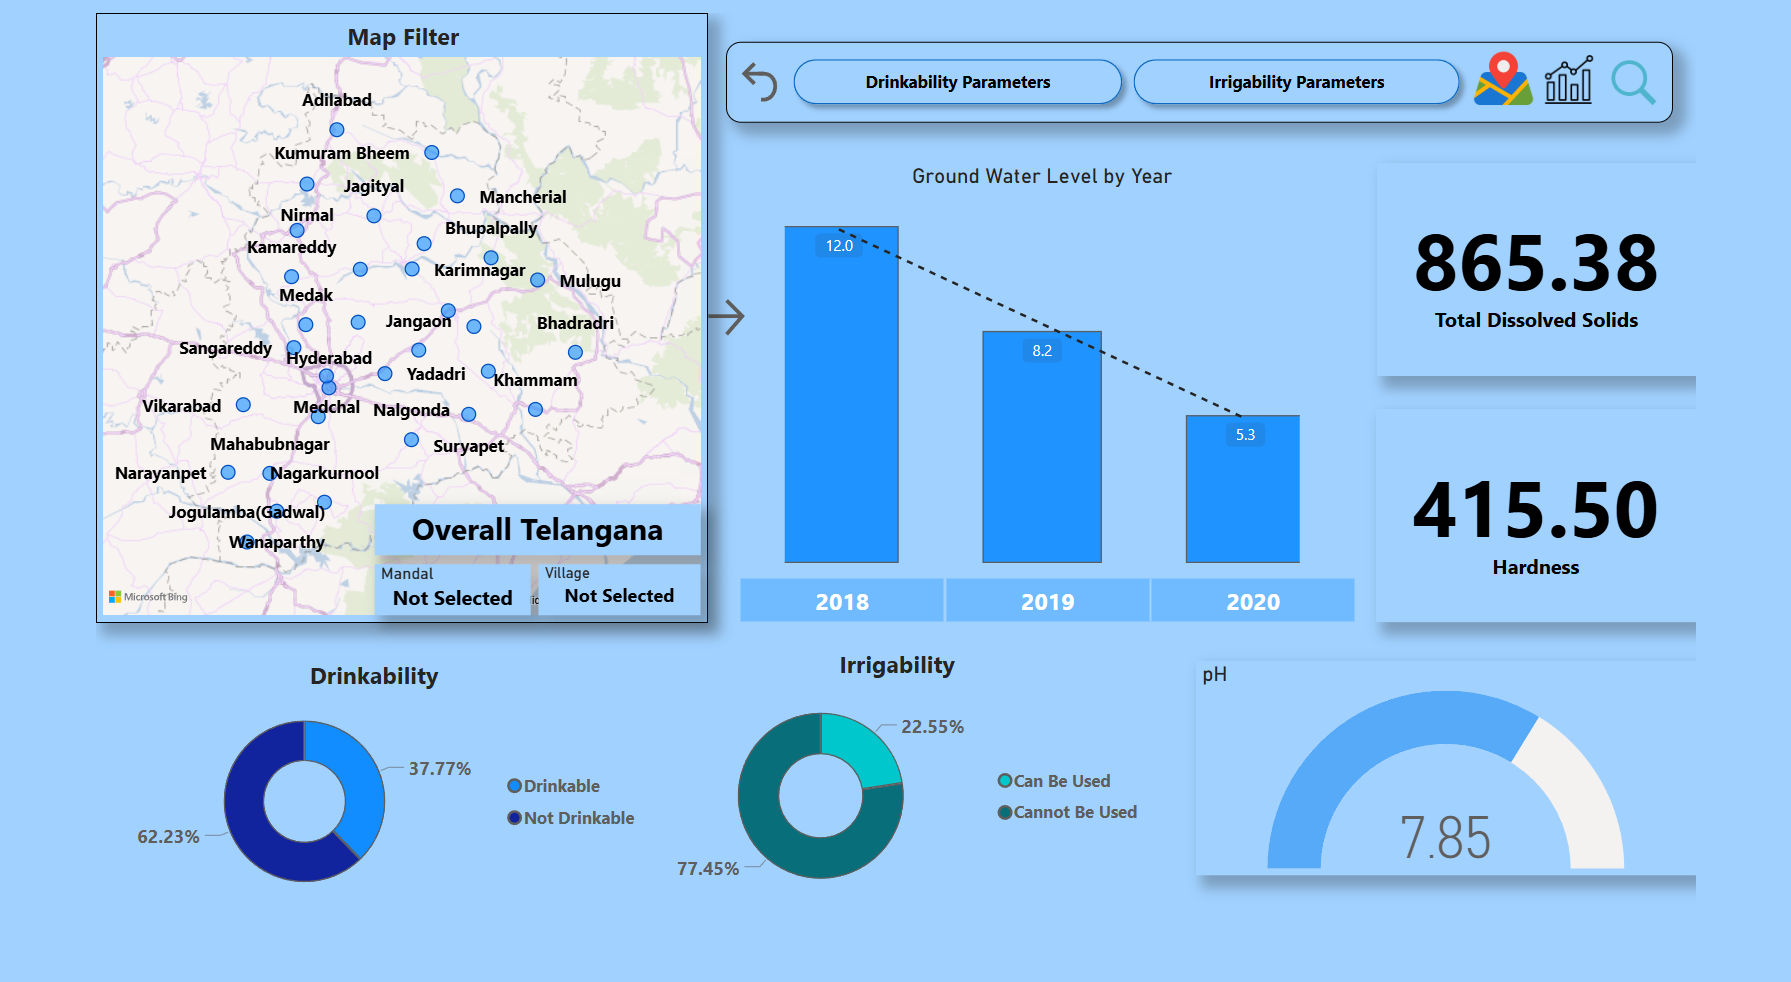

This screenshot's page, from the dashboard's own definition file:
{"tool":"powerbi","page":{"name":"Home","canvas":[1280,720],"ordinal":3},"visuals":[{"type":"actionButton","box":[483.6,223.9,119.4,38.8],"z":0},{"type":"card","title":"District","fields":{"Values":["Water Measures.Drill District"]},"box":[222.7,392.5,261.2,41.5],"z":0,"group":"g2"},{"type":"slicer","title":"Year Filter","fields":{"Values":["Cleaned Data.Year"]},"box":[489.5,445.9,541,47.5],"z":0,"group":"g1"},{"type":"shape","title":"Back Bar Base","box":[503.5,23.1,758.9,64.9],"z":1000},{"type":"clusteredColumnChart","fields":{"Category":["Cleaned Data.Year"],"Y":["Water Measures.Ground Water Level"]},"box":[530.3,119.7,452.5,326.2],"z":1000,"group":"g1"},{"type":"card","title":"Mandal","fields":{"Values":["Water Measures.Drill Mandal"]},"box":[222.8,440.3,125.1,41.1],"z":1000,"group":"g2"},{"type":"card","title":"Hardness","fields":{"Values":["Water Measures.Hardness"]},"box":[1024.4,317.4,255.4,170.2],"z":2000},{"type":"card","title":"Village","fields":{"Values":["Water Measures.Drill Village"]},"box":[353.8,440.3,130.1,41.1],"z":2000,"group":"g2"},{"type":"textbox","box":[222.7,385.6,42.4,28.3],"z":3000,"group":"g2"},{"type":"gauge","fields":{"Y":["Water Measures.pH"]},"box":[880.1,518,399.6,171.7],"z":3000},{"type":"card","title":"TDS","fields":{"Values":["Water Measures.TDS"]},"box":[1025,120.3,254.7,170.3],"z":4000},{"type":"donutChart","title":"Drinkability","fields":{"Y":["Water Measures.DrinkableCount","Water Measures.NotDrinkableCount"]},"box":[0,517.5,445.3,202.8],"z":5000},{"type":"donutChart","title":"Irrigability","fields":{"Y":["Water Measures.IrrigationCount","Water Measures.NotIrrigationCount"]},"box":[434.3,507.9,414.1,212.1],"z":6000},{"type":"actionButton","title":"Reset View","box":[510.4,34.3,43.3,41.8],"z":7000},{"type":"group","id":"g1","title":"GWL By Year","box":[489.5,119.7,541,373.7],"z":8000},{"type":"shape","title":"Drinkability Button","box":[549.3,28.4,280.6,53.7],"z":9000},{"type":"shape","title":"Irrigability Button","box":[820.9,28.4,279.1,53.7],"z":10000},{"type":"azureMap","title":"Map Filter","fields":{"Y":["Avg(Cleaned Data.Latitude)"],"X":["Avg(Cleaned Data.Longitude)"],"Category":["Cleaned Data.District Hierarchy.District","Cleaned Data.District Hierarchy.Mandal","Cleaned Data.District Hierarchy.Village"]},"box":[0,0,490.1,487.6],"z":11000},{"type":"image","title":"Search","box":[1200,26.9,61.2,58.2],"z":13000},{"type":"image","box":[1153.7,28.4,49.3,50.7],"z":16000},{"type":"image","box":[1094,20.9,64.2,62.7],"z":17000},{"type":"group","id":"g2","title":"Location Names","box":[222.7,385.6,261.2,95.8],"z":22000}]}

Visuals, with their boxes in screenshot pixels (x1, y1, x2, y2), scaled from the page's 1280x720 canvas onto the 1791x982 screenshot:
actionButton: l=677, t=305, r=844, b=358
"District" card: l=312, t=535, r=677, b=592
"Year Filter" slicer: l=685, t=608, r=1442, b=673
"Back Bar Base" shape: l=705, t=32, r=1766, b=120
clusteredColumnChart - Cleaned Data.Year x Water Measures.Ground Water Level: l=742, t=163, r=1375, b=608
"Mandal" card: l=312, t=601, r=487, b=657
"Hardness" card: l=1433, t=433, r=1790, b=665
"Village" card: l=495, t=601, r=677, b=657
textbox: l=312, t=526, r=371, b=565
gauge - Water Measures.pH: l=1231, t=706, r=1790, b=941
"TDS" card: l=1434, t=164, r=1790, b=396
"Drinkability" donutChart: l=0, t=706, r=623, b=981
"Irrigability" donutChart: l=608, t=693, r=1187, b=981
"Reset View" actionButton: l=714, t=47, r=775, b=104
"GWL By Year" group: l=685, t=163, r=1442, b=673
"Drinkability Button" shape: l=769, t=39, r=1161, b=112
"Irrigability Button" shape: l=1149, t=39, r=1539, b=112
"Map Filter" azureMap: l=0, t=0, r=686, b=665
"Search" image: l=1679, t=37, r=1765, b=116
image: l=1614, t=39, r=1683, b=108
image: l=1531, t=29, r=1621, b=114
"Location Names" group: l=312, t=526, r=677, b=657
